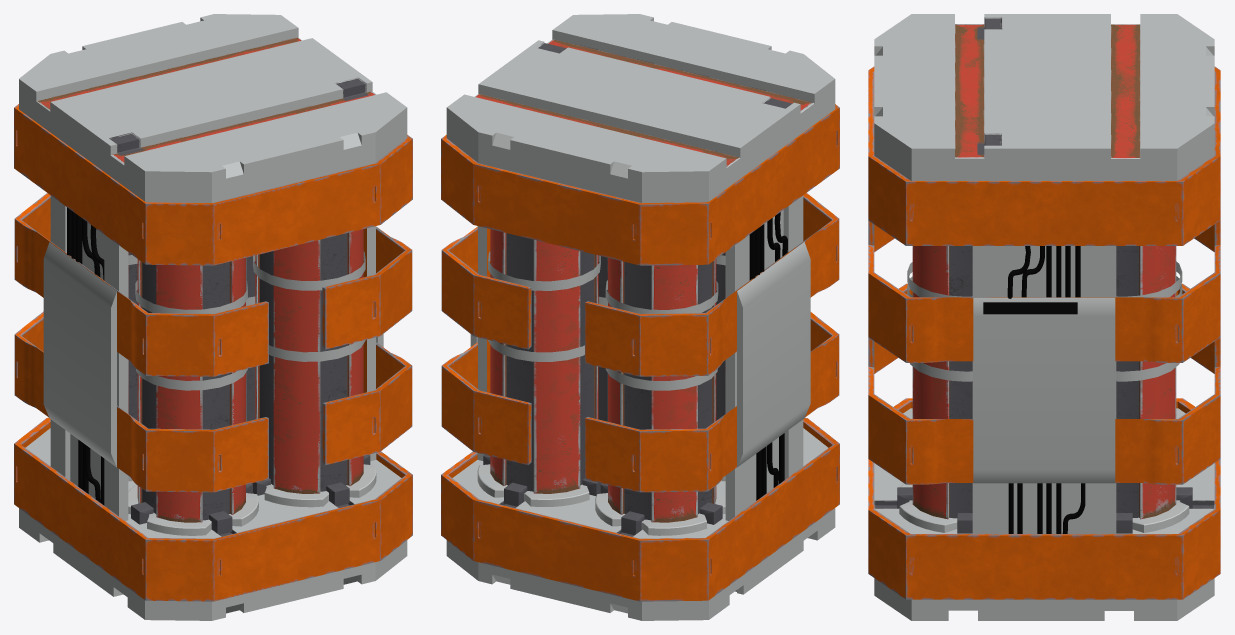
File: ElecroBattery.fbx
The picture shows the model from 3 angles, left to right: view 1: azimuth 30°, elevation 25°; view 2: azimuth 150°, elevation 25°; view 3: azimuth 270°, elevation 25°; orthographic projection. The views are drawn at different scales.
Visible parts, largest first — view 1: polySurface12, group9_group8_group6_pCube1, polySurface11, polySurface1, polySurface7, polySurface9, polySurface8, polySurface10, Circle; view 2: polySurface12, group9_group8_group6_pCube1, polySurface11, polySurface1, polySurface7, polySurface9, polySurface8, polySurface10, Circle; view 3: polySurface12, polySurface7, polySurface11, polySurface1, group9_group8_group6_pCube1, polySurface8, polySurface9, polySurface10, Circle, polySurface4.
Boxes of the visible parts, x1,y1,x2,y2 form: polySurface12: (19, 14, 407, 202); group9_group8_group6_pCube1: (128, 229, 376, 535); polySurface11: (14, 417, 412, 601); polySurface1: (14, 104, 412, 265); polySurface7: (43, 195, 383, 520); polySurface9: (14, 193, 412, 376); polySurface8: (14, 311, 412, 492); polySurface10: (19, 428, 407, 620); Circle: (67, 207, 104, 505); polySurface12: (446, 14, 835, 202); group9_group8_group6_pCube1: (477, 229, 725, 535); polySurface11: (441, 417, 839, 601); polySurface1: (441, 104, 839, 265); polySurface7: (470, 195, 810, 520); polySurface9: (441, 193, 839, 376); polySurface8: (441, 312, 839, 492); polySurface10: (446, 428, 835, 620); Circle: (749, 212, 787, 500); polySurface12: (874, 14, 1214, 180); polySurface7: (972, 246, 1116, 533); polySurface11: (868, 398, 1220, 599); polySurface1: (868, 66, 1220, 245); group9_group8_group6_pCube1: (897, 246, 1192, 533); polySurface8: (868, 283, 1220, 484); polySurface9: (868, 220, 1220, 362); polySurface10: (874, 408, 1214, 620); Circle: (1007, 246, 1085, 533); polySurface4: (983, 302, 1077, 314).
Bounding box in the file's own units: 111 × 174 × 118.
